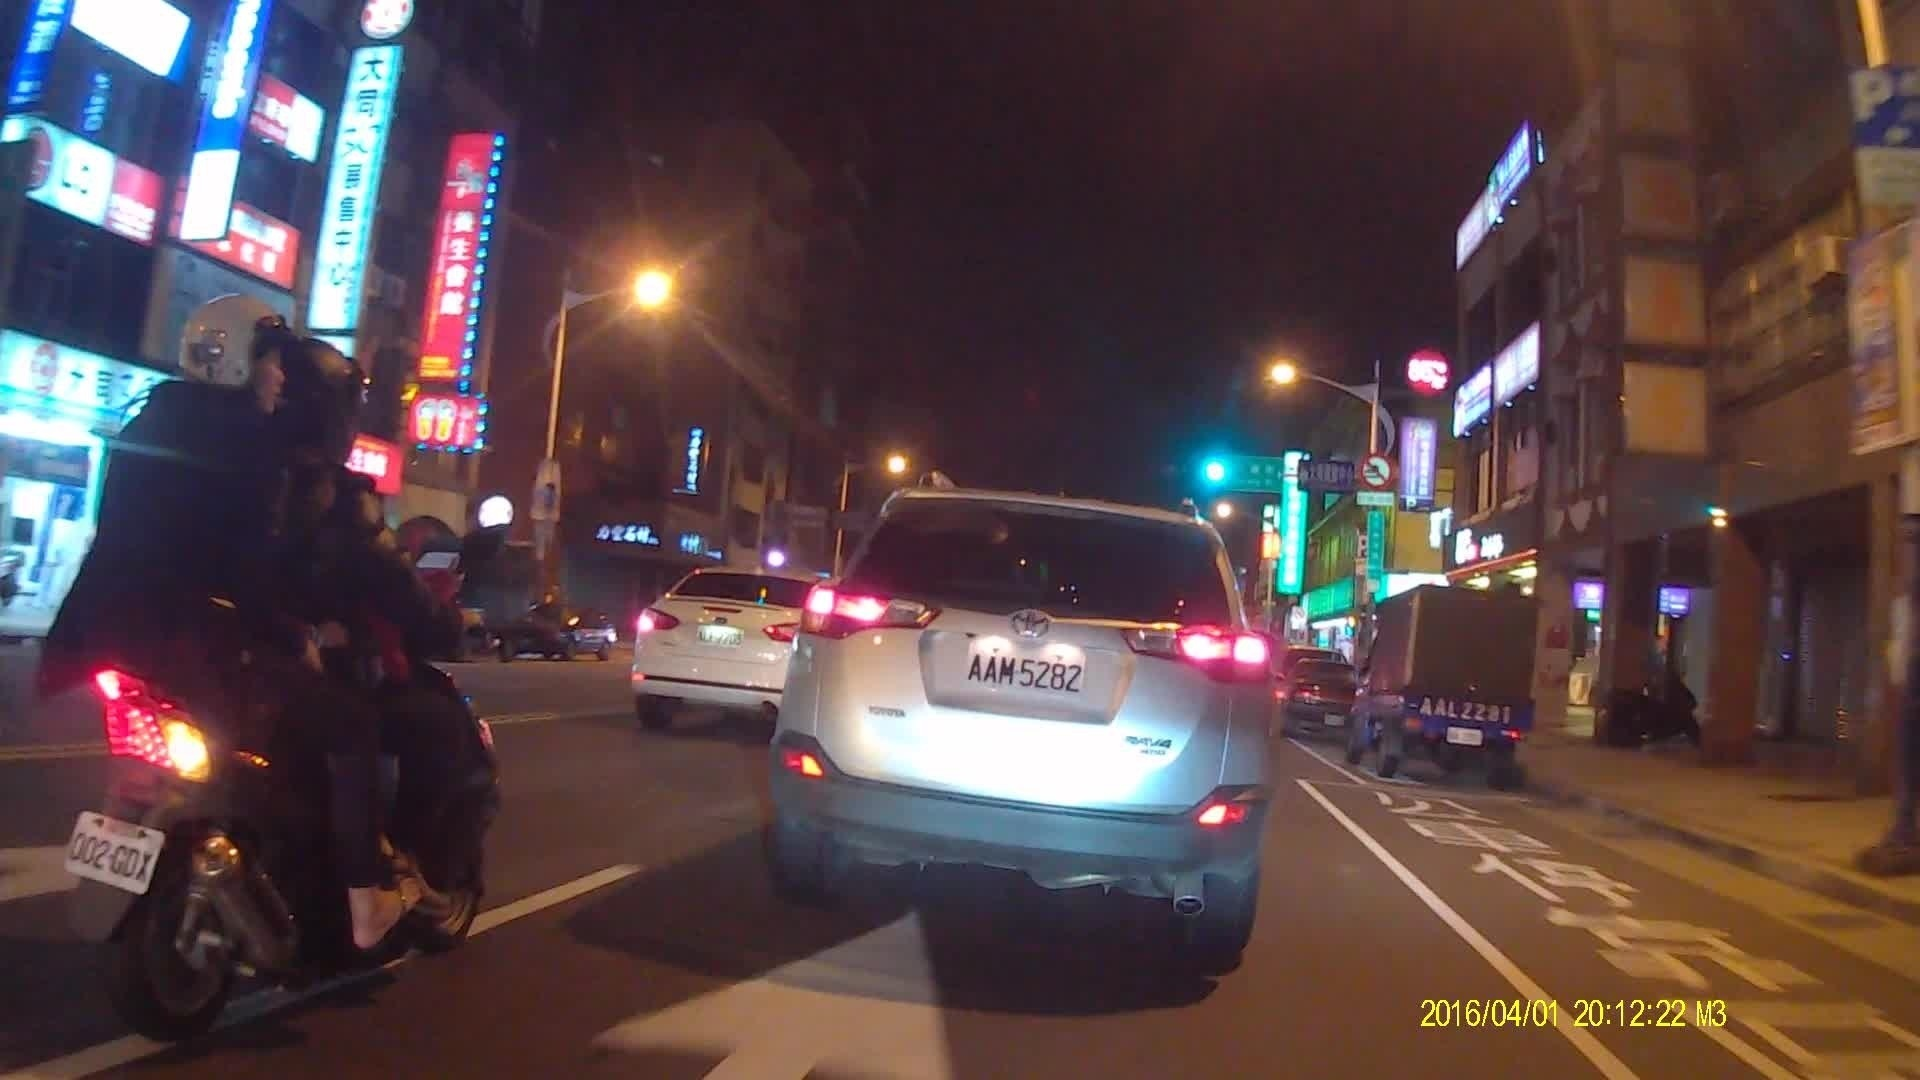License_plate: (66, 806, 162, 899), (966, 638, 1085, 706)
